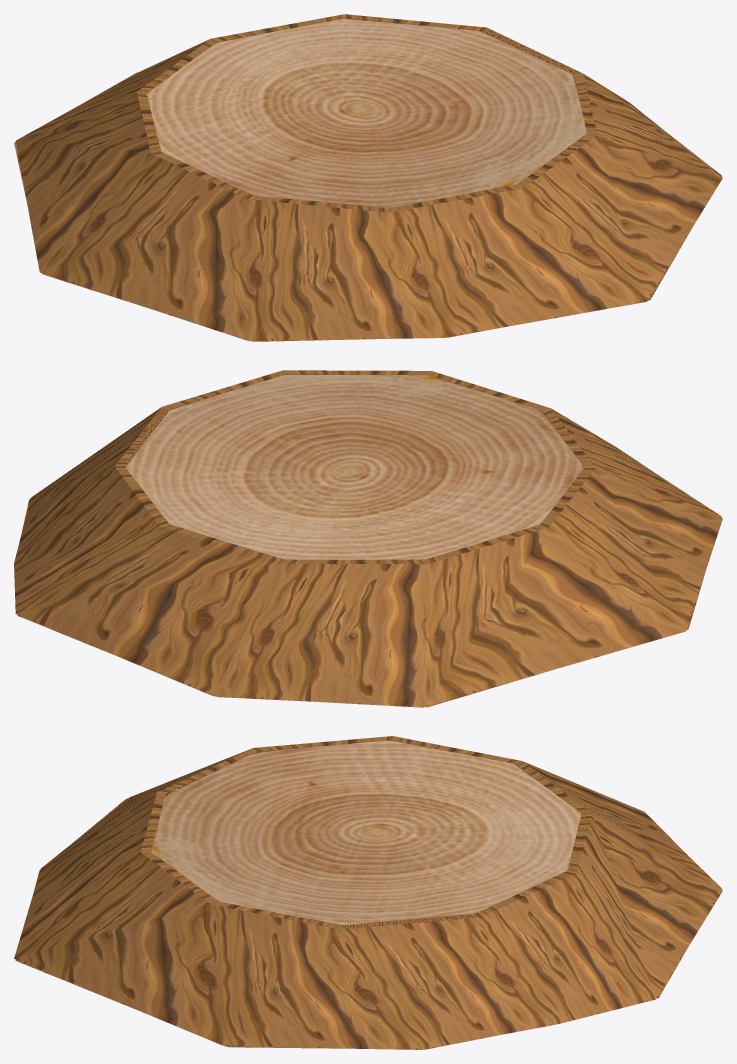
The model's file is TreeBase.FBX.
3 renders of one model, top to bottom at view 1: azimuth 30°, elevation 25°; view 2: azimuth 150°, elevation 25°; view 3: azimuth 270°, elevation 25°, orthographic. The views are drawn at different scales.
Parts seen in each view (by area): view 1: Object001, Object002; view 2: Object001, Object002; view 3: Object001, Object002.
Boxes of the visible parts, x1,y1,x2,y2 form: Object001: [14, 14, 722, 341]; Object002: [146, 18, 586, 207]; Object001: [14, 370, 722, 707]; Object002: [125, 375, 582, 559]; Object001: [14, 736, 722, 1049]; Object002: [151, 740, 581, 925].
Bounding box in the file's own units: 392 × 48.96 × 400.
2 materials, 2 textured.
